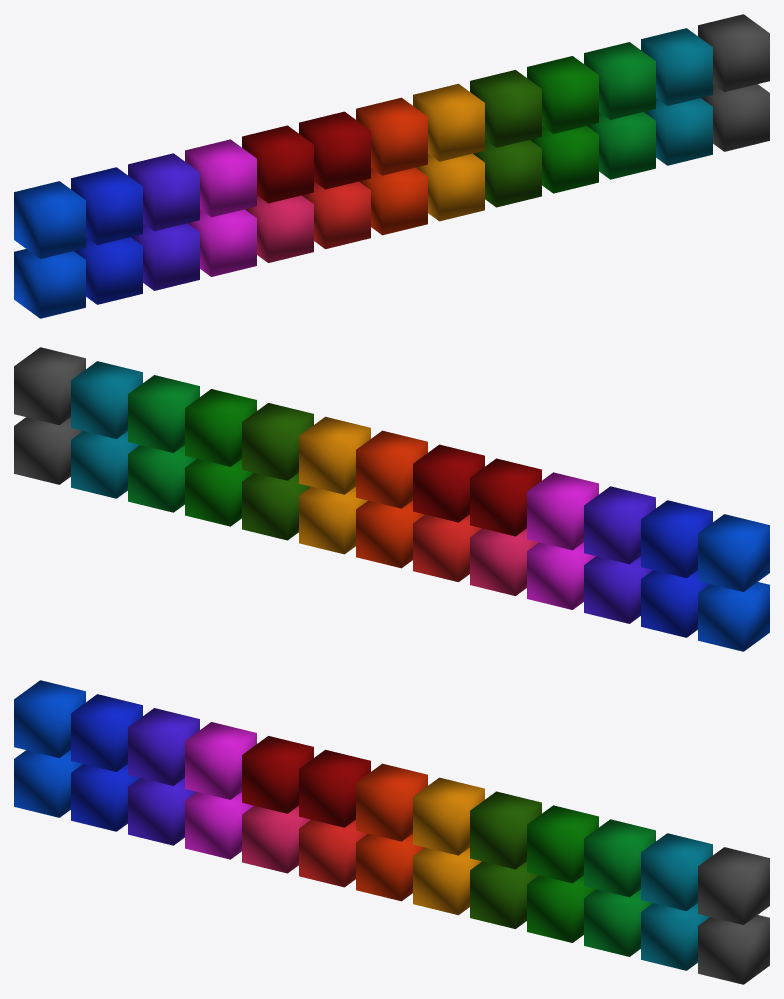
The model's file is Palette.fbx.
3 views of the same model, one above another, from view 1: azimuth 30°, elevation 25°; view 2: azimuth 150°, elevation 25°; view 3: azimuth 330°, elevation 25° (orthographic).
Parts seen in each view (by area): view 1: palette_obj_proxy; view 2: palette_obj_proxy; view 3: palette_obj_proxy.
Part boxes in pixels (x1,y1,x2,y2): palette_obj_proxy: (14,14,769,318); palette_obj_proxy: (14,347,769,651); palette_obj_proxy: (14,680,769,984).
Bounding box in the file's own units: 12.8 × 1.8 × 0.8.
